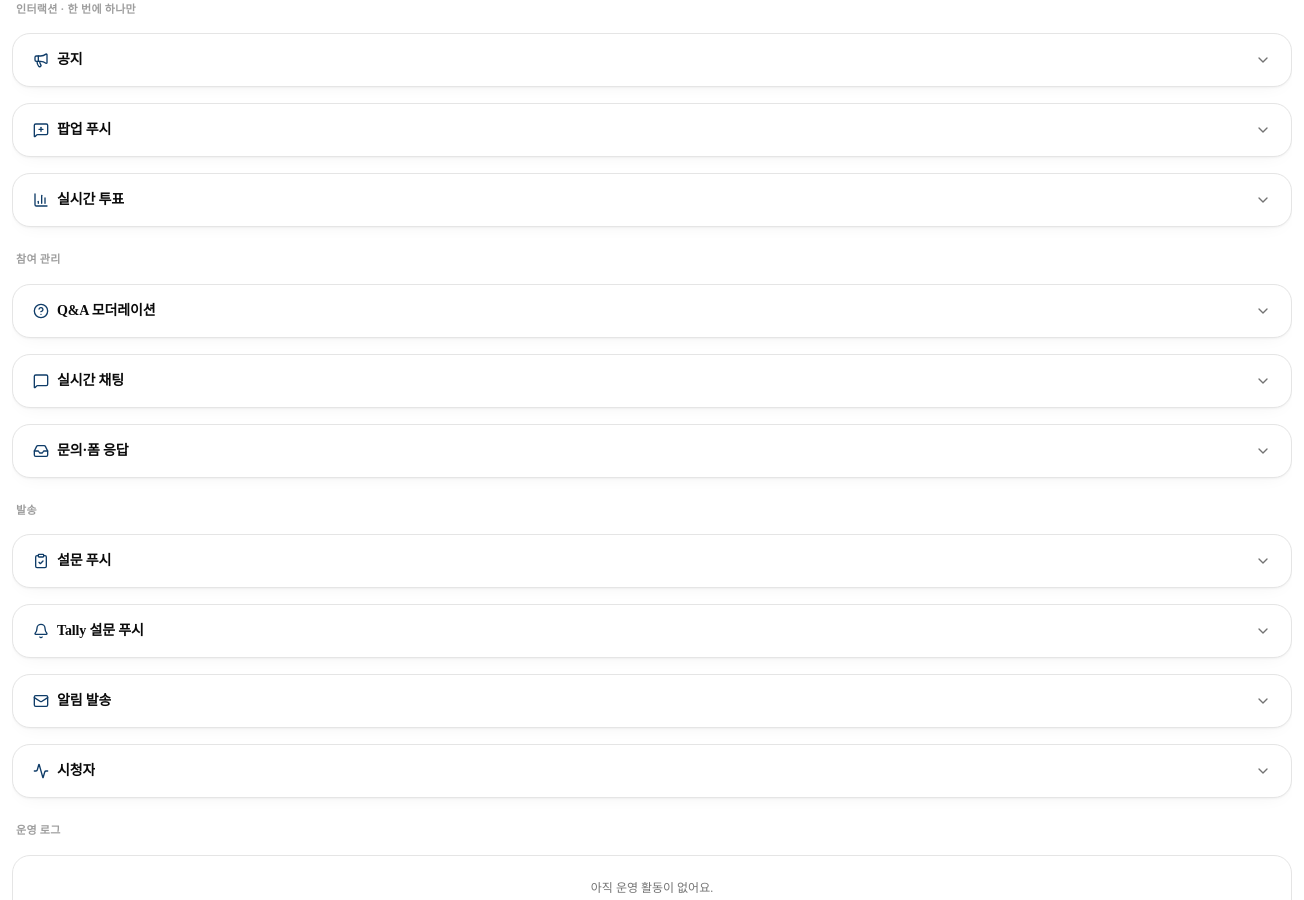
Test: 운영 콘솔 안내는 현재 만들기 메뉴를 가리킨다 › 폼 응답과 채팅 안내가 현행 시청 화면 경로를 표시한다
(page scrolled)
Click the button "문의·폼 응답". click: click(93, 450)
box: left=13, top=425, right=1291, bottom=477
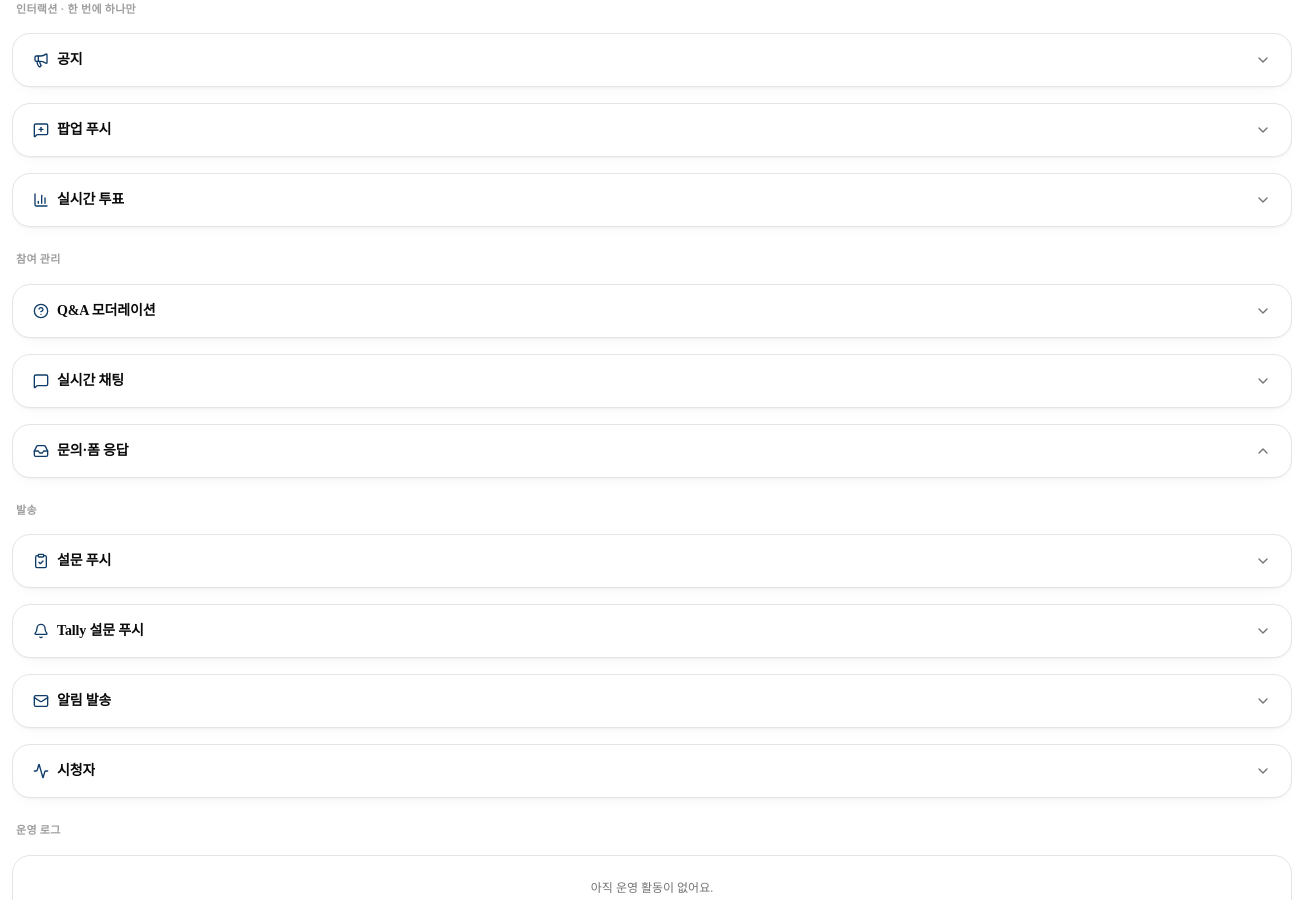
Click the button "실시간 채팅". click: click(91, 380)
box: left=13, top=355, right=1291, bottom=407
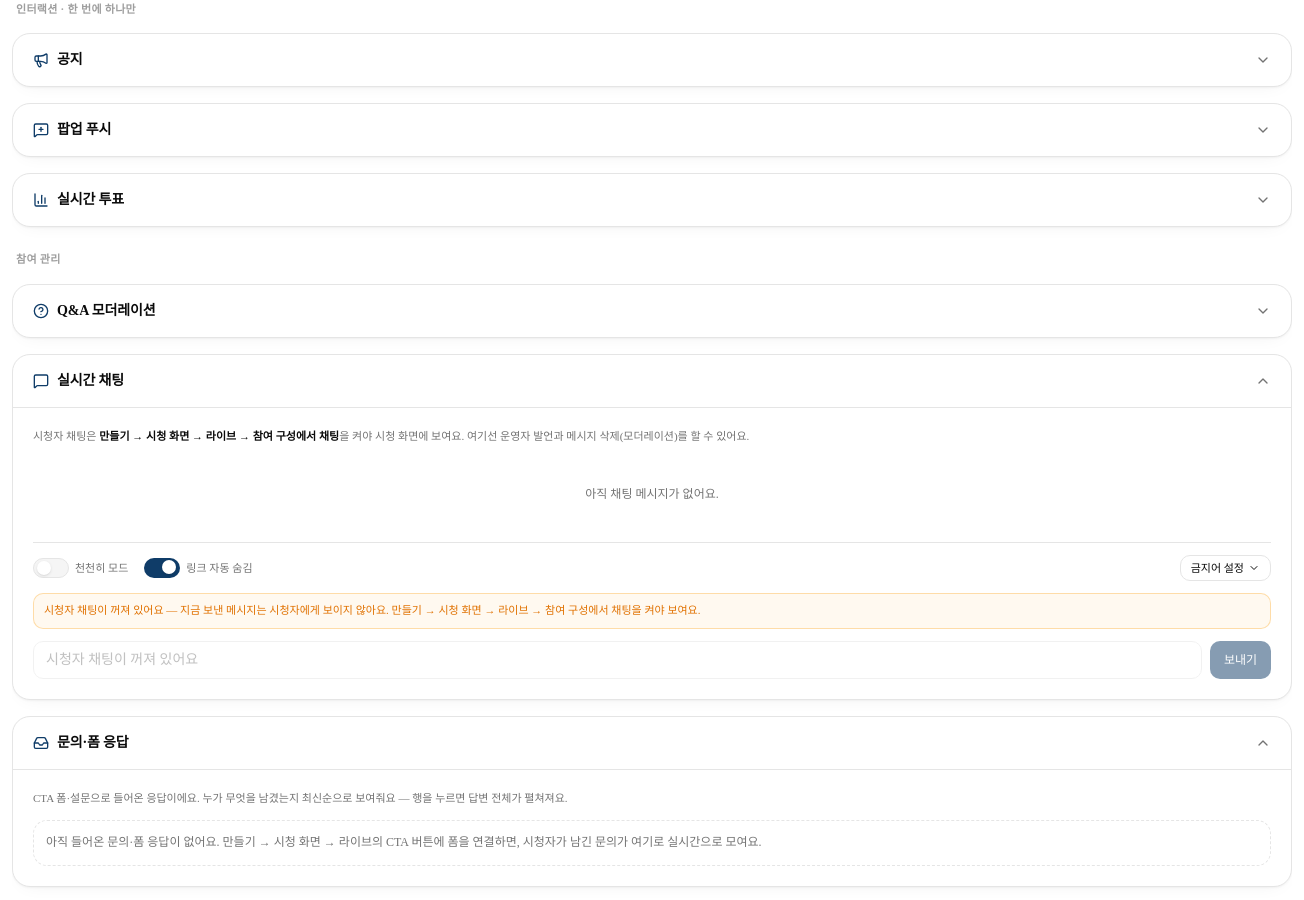
Check: the text "만들기 → 시청 화면 → 라이브 → 참여 구성에서 채팅을 켜야 시청 화면에 보여요" is shown, box left=33, top=430, right=749, bottom=442
Check: the text "만들기 → 시청 화면 → 라이브 → 참여 구성에서 채팅을 켜야 보여요" is shown, box left=389, top=604, right=700, bottom=616
